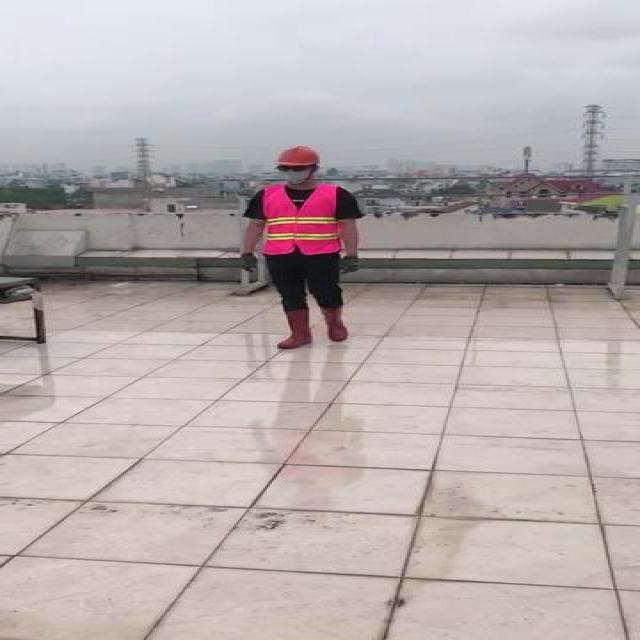boots: (281, 306, 311, 348), (322, 303, 346, 341)
face_mask: (274, 160, 314, 184)
glasses: (273, 163, 312, 174)
hand_glove: (332, 253, 361, 278), (242, 249, 263, 272)
head_helmet: (271, 144, 325, 168)
person: (232, 142, 372, 356)
vest: (260, 184, 340, 254)
